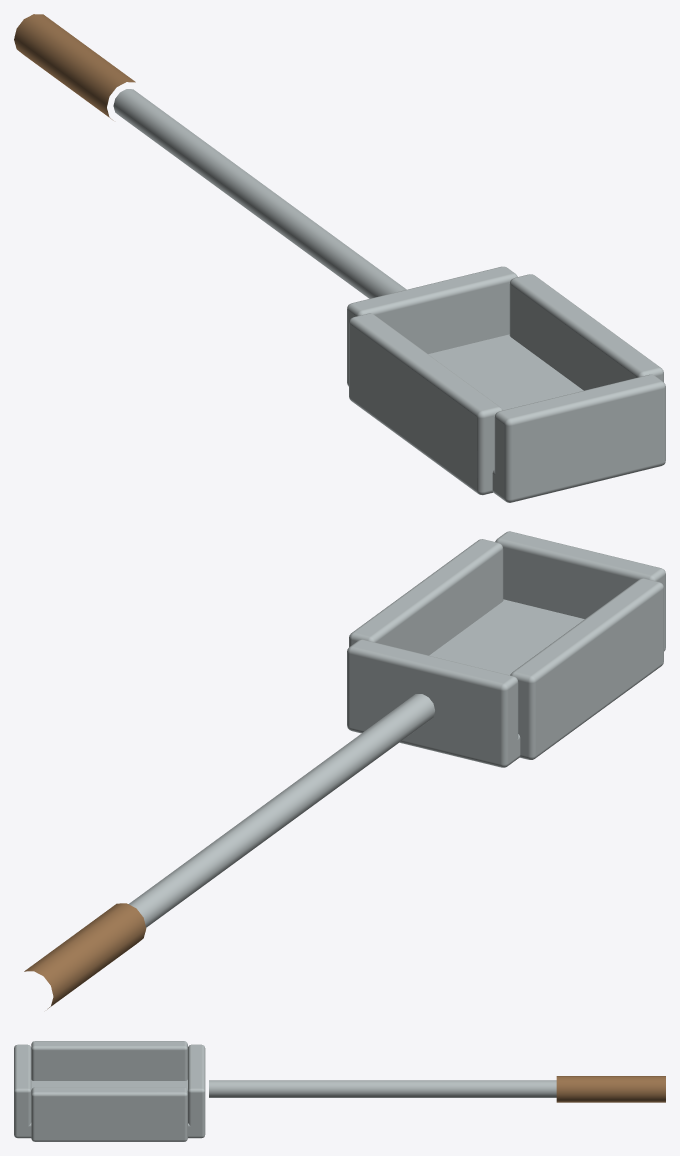
Rendered from glassblowing-studio-and-gallery-charging-scoop-216c567e__29602.glb.
The picture shows the model from 3 angles, top to bottom: view 1: azimuth 30°, elevation 25°; view 2: azimuth 150°, elevation 25°; view 3: azimuth 270°, elevation 25°; orthographic projection. The views are drawn at different scales.
Visible parts, largest first — view 1: charging-scoop; view 2: charging-scoop; view 3: charging-scoop.
Boxes of the visible parts, x1,y1,x2,y2 form: charging-scoop: [14, 14, 665, 502]; charging-scoop: [24, 531, 665, 1009]; charging-scoop: [14, 1041, 665, 1141].
Size of the model in its own units: 0.255 by 0.11 by 1.31.
